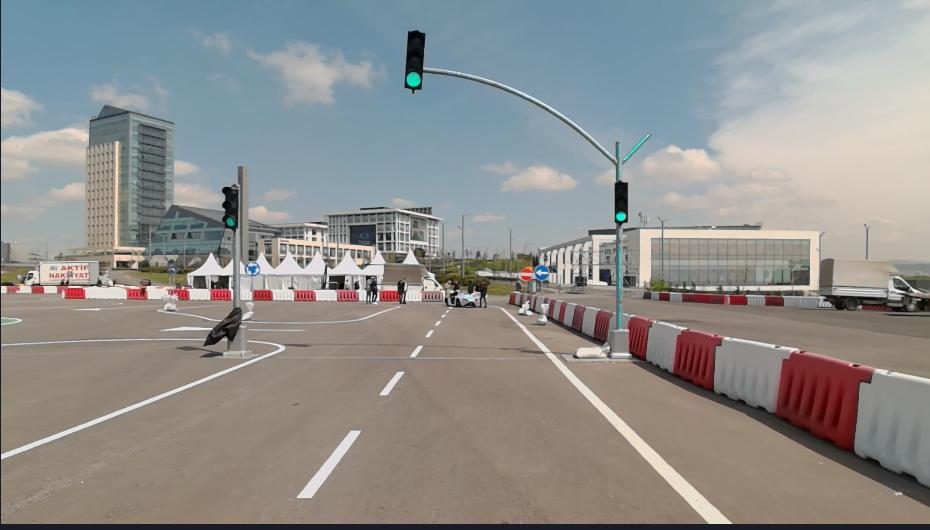nesne: (0, 298, 729, 523), (0, 297, 452, 522), (273, 300, 730, 522), (489, 301, 730, 526), (628, 317, 929, 484), (0, 339, 285, 459), (423, 62, 656, 180), (772, 351, 863, 450), (851, 367, 928, 479), (712, 336, 789, 414), (820, 259, 926, 310), (298, 429, 363, 498), (548, 300, 615, 347), (672, 328, 720, 390), (202, 309, 261, 357), (253, 305, 401, 324), (1, 334, 208, 345), (644, 320, 680, 374), (379, 262, 443, 292), (575, 327, 631, 359), (402, 29, 427, 94), (730, 295, 830, 307), (629, 289, 721, 302), (629, 317, 651, 359), (614, 222, 622, 327), (231, 227, 241, 310), (221, 184, 238, 232), (378, 369, 405, 394), (446, 289, 478, 310), (614, 180, 629, 222), (593, 310, 612, 343), (580, 307, 598, 339), (783, 297, 826, 308), (85, 288, 125, 299), (363, 277, 379, 304), (684, 293, 720, 305), (603, 314, 616, 347), (569, 305, 584, 333), (396, 274, 408, 305), (562, 302, 575, 329), (124, 288, 151, 300), (210, 289, 232, 302), (478, 277, 487, 308), (189, 289, 211, 301), (293, 289, 315, 301), (148, 288, 169, 300), (534, 265, 549, 281), (166, 292, 179, 310), (65, 287, 86, 298), (314, 290, 337, 300), (556, 302, 566, 325), (409, 341, 423, 357), (380, 290, 398, 302), (521, 278, 528, 308), (518, 301, 532, 316), (520, 265, 533, 281), (272, 291, 295, 300), (539, 301, 548, 324), (338, 290, 355, 302), (552, 299, 561, 321), (245, 261, 259, 275), (353, 288, 365, 304), (421, 292, 442, 301), (255, 290, 272, 300), (729, 296, 746, 306), (746, 297, 766, 305), (445, 278, 454, 295), (767, 296, 782, 306), (409, 292, 422, 302), (250, 274, 254, 306), (529, 296, 537, 312), (722, 293, 730, 309), (175, 290, 189, 299), (547, 299, 553, 320), (630, 290, 643, 299), (508, 291, 516, 305), (513, 292, 521, 306), (44, 286, 56, 295), (539, 280, 542, 315), (6, 285, 19, 293), (29, 285, 43, 292), (657, 294, 670, 301), (59, 285, 68, 295), (671, 293, 681, 302), (453, 278, 461, 289), (19, 286, 32, 292), (241, 289, 249, 298), (651, 293, 658, 300), (0, 285, 6, 293), (644, 292, 651, 298)
